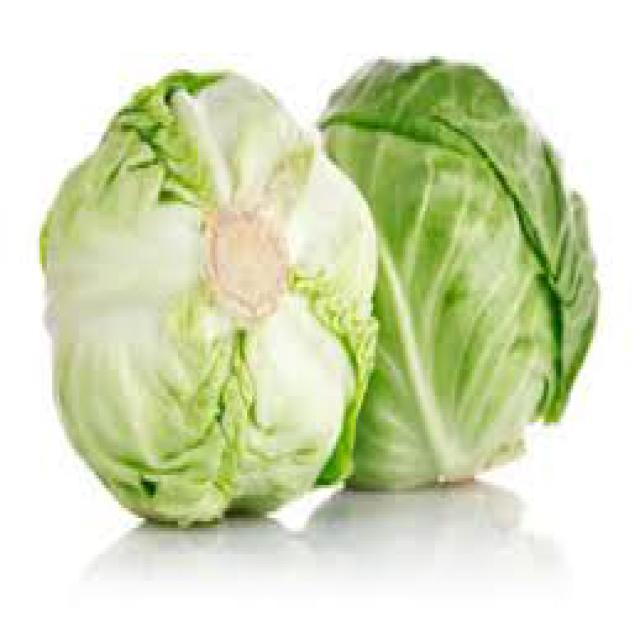Cabbage: (38, 65, 378, 536), (318, 52, 604, 496)
